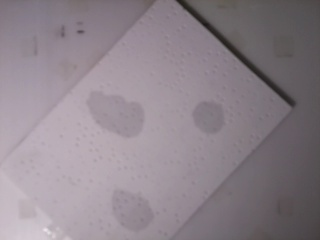Water_detected: (86, 90, 143, 138), (115, 183, 158, 220), (194, 101, 225, 140)
